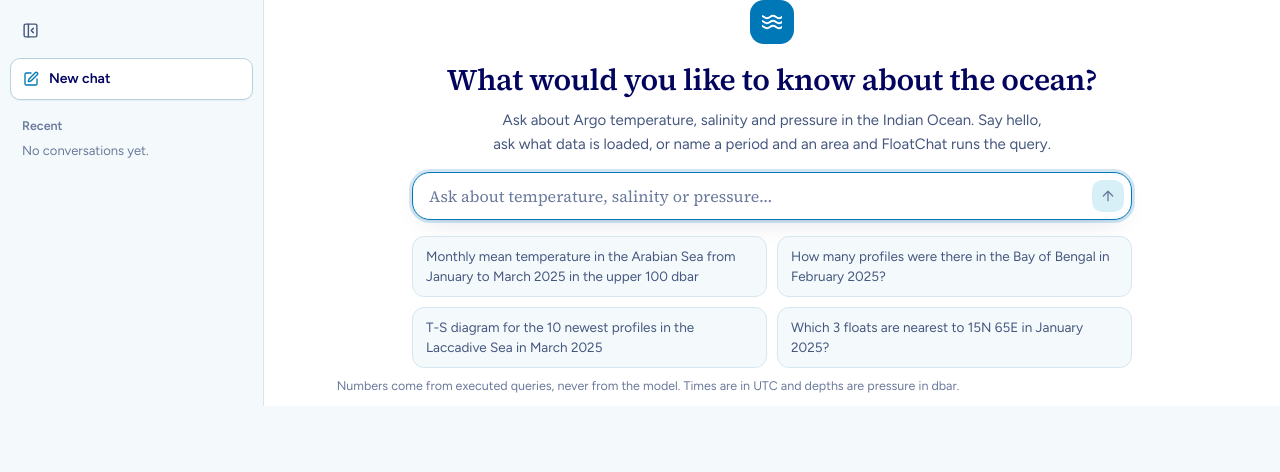
it: ChatPage › explains an unavailable assistant without hiding the rest of the app
The image size is (1280, 472).
Click the button "Monthly mean temperature". click: [590, 267]
box: [412,236,767,297]
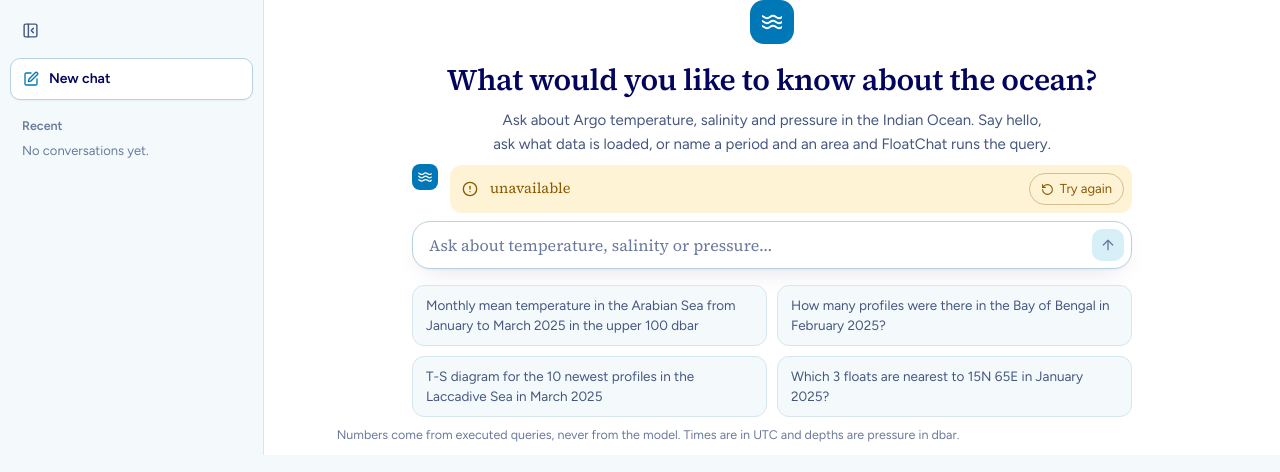
expect the message shows "unavailable": met, box [490,178,570,198]
expect the icon titled "t-9" is shown: met, box [462,181,478,197]
expect the button "Try again" is shown: met, box [1029,173,1124,205]
